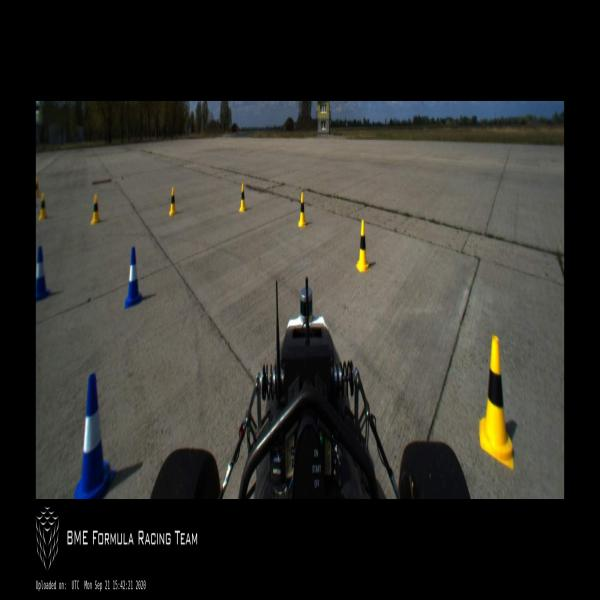blue_cone: (75, 374, 115, 498), (125, 247, 142, 308), (36, 247, 51, 304)
yellow_cone: (477, 334, 514, 468), (355, 220, 369, 272), (298, 192, 307, 227), (91, 194, 100, 224), (39, 192, 48, 220), (239, 182, 247, 212), (169, 188, 177, 216), (36, 174, 39, 199)
